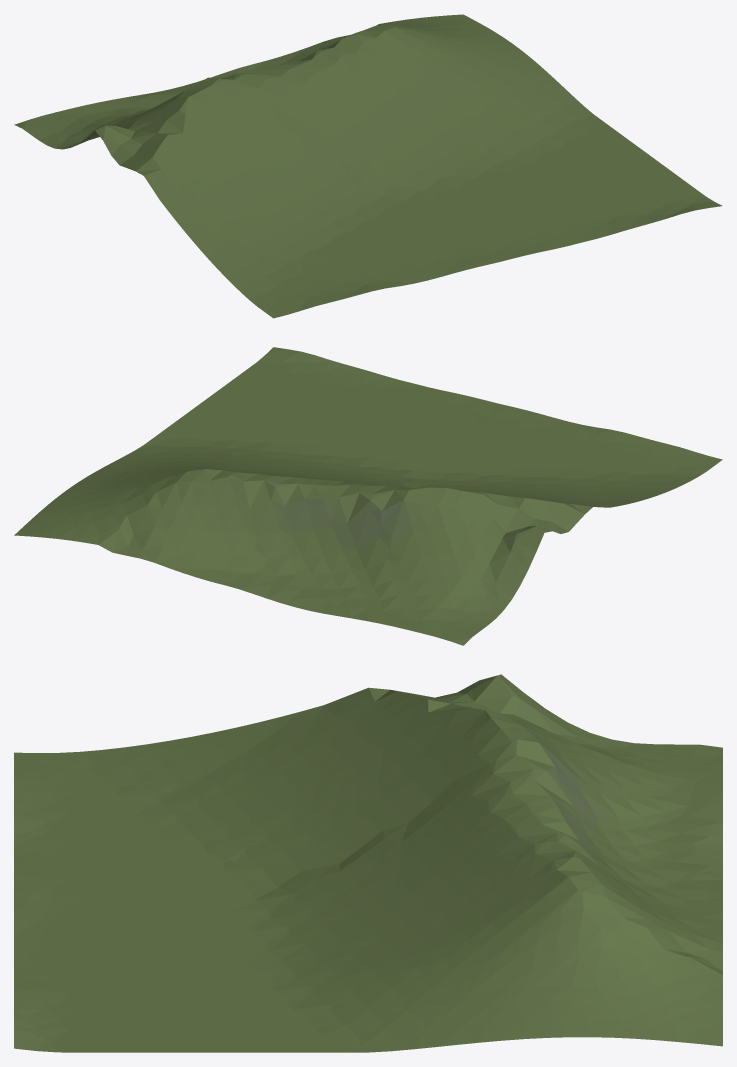
File: Ground_-3_-4.glb
The picture shows the model from 3 angles, top to bottom: view 1: azimuth 30°, elevation 25°; view 2: azimuth 150°, elevation 25°; view 3: azimuth 270°, elevation 25°; orthographic projection. The views are drawn at different scales.
Visible parts, largest first — view 1: Ground_-3_-4; view 2: Ground_-3_-4; view 3: Ground_-3_-4.
Boxes of the visible parts, bbox=[...] form: Ground_-3_-4: bbox=[14, 14, 722, 318]; Ground_-3_-4: bbox=[14, 347, 722, 645]; Ground_-3_-4: bbox=[14, 674, 722, 1052].
Size of the model in its own units: 768 by 122 by 768.
